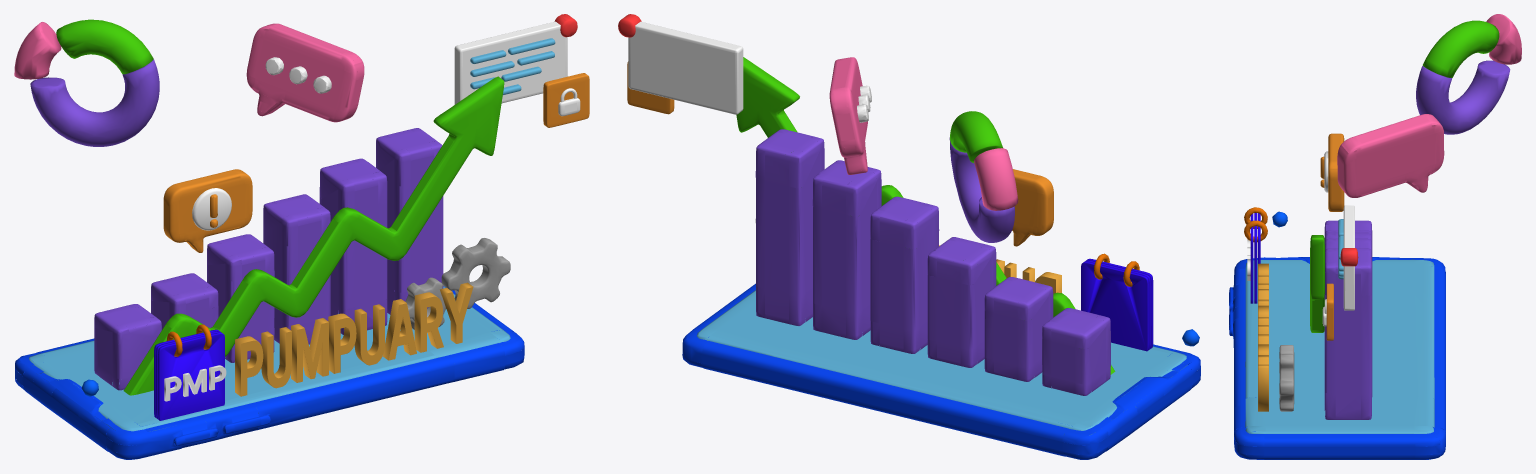
File: pump.glb
3 renders of one model, left to right at view 1: azimuth 30°, elevation 25°; view 2: azimuth 150°, elevation 25°; view 3: azimuth 270°, elevation 25°, orthographic. The views are drawn at different scales.
Visible parts, largest first — view 1: pump; view 2: pump; view 3: pump.
Part boxes in pixels (x1=…): pump: x1=14, y1=14, x2=589, y2=459; pump: x1=618, y1=14, x2=1200, y2=459; pump: x1=1229, y1=14, x2=1521, y2=459.
Bounding box in the file's own units: 3.77 × 2.22 × 1.96.
